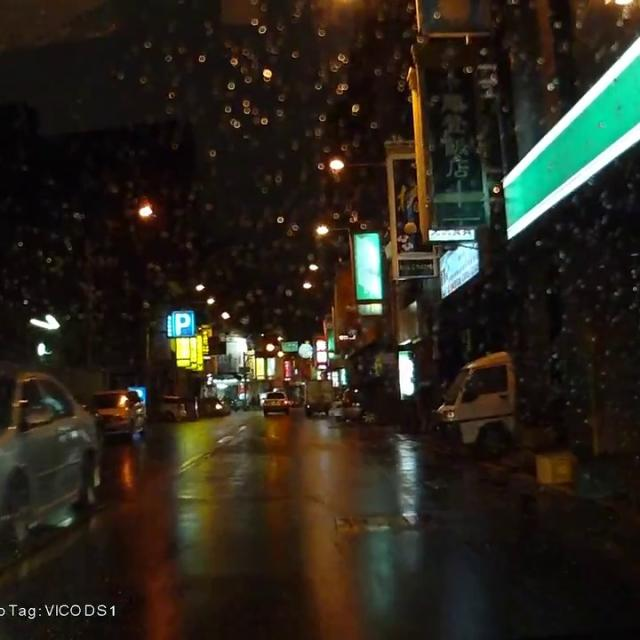Car: (0, 366, 104, 545), (83, 389, 148, 439), (152, 393, 187, 423), (259, 389, 289, 411)
